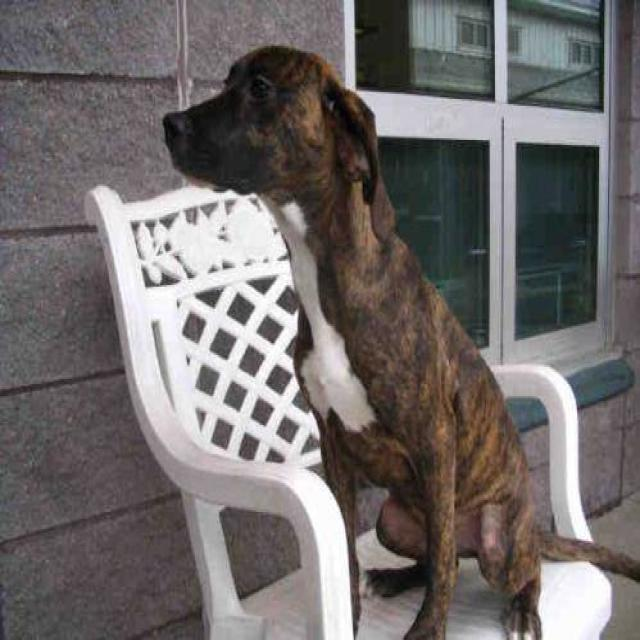dog: (160, 43, 639, 638)
